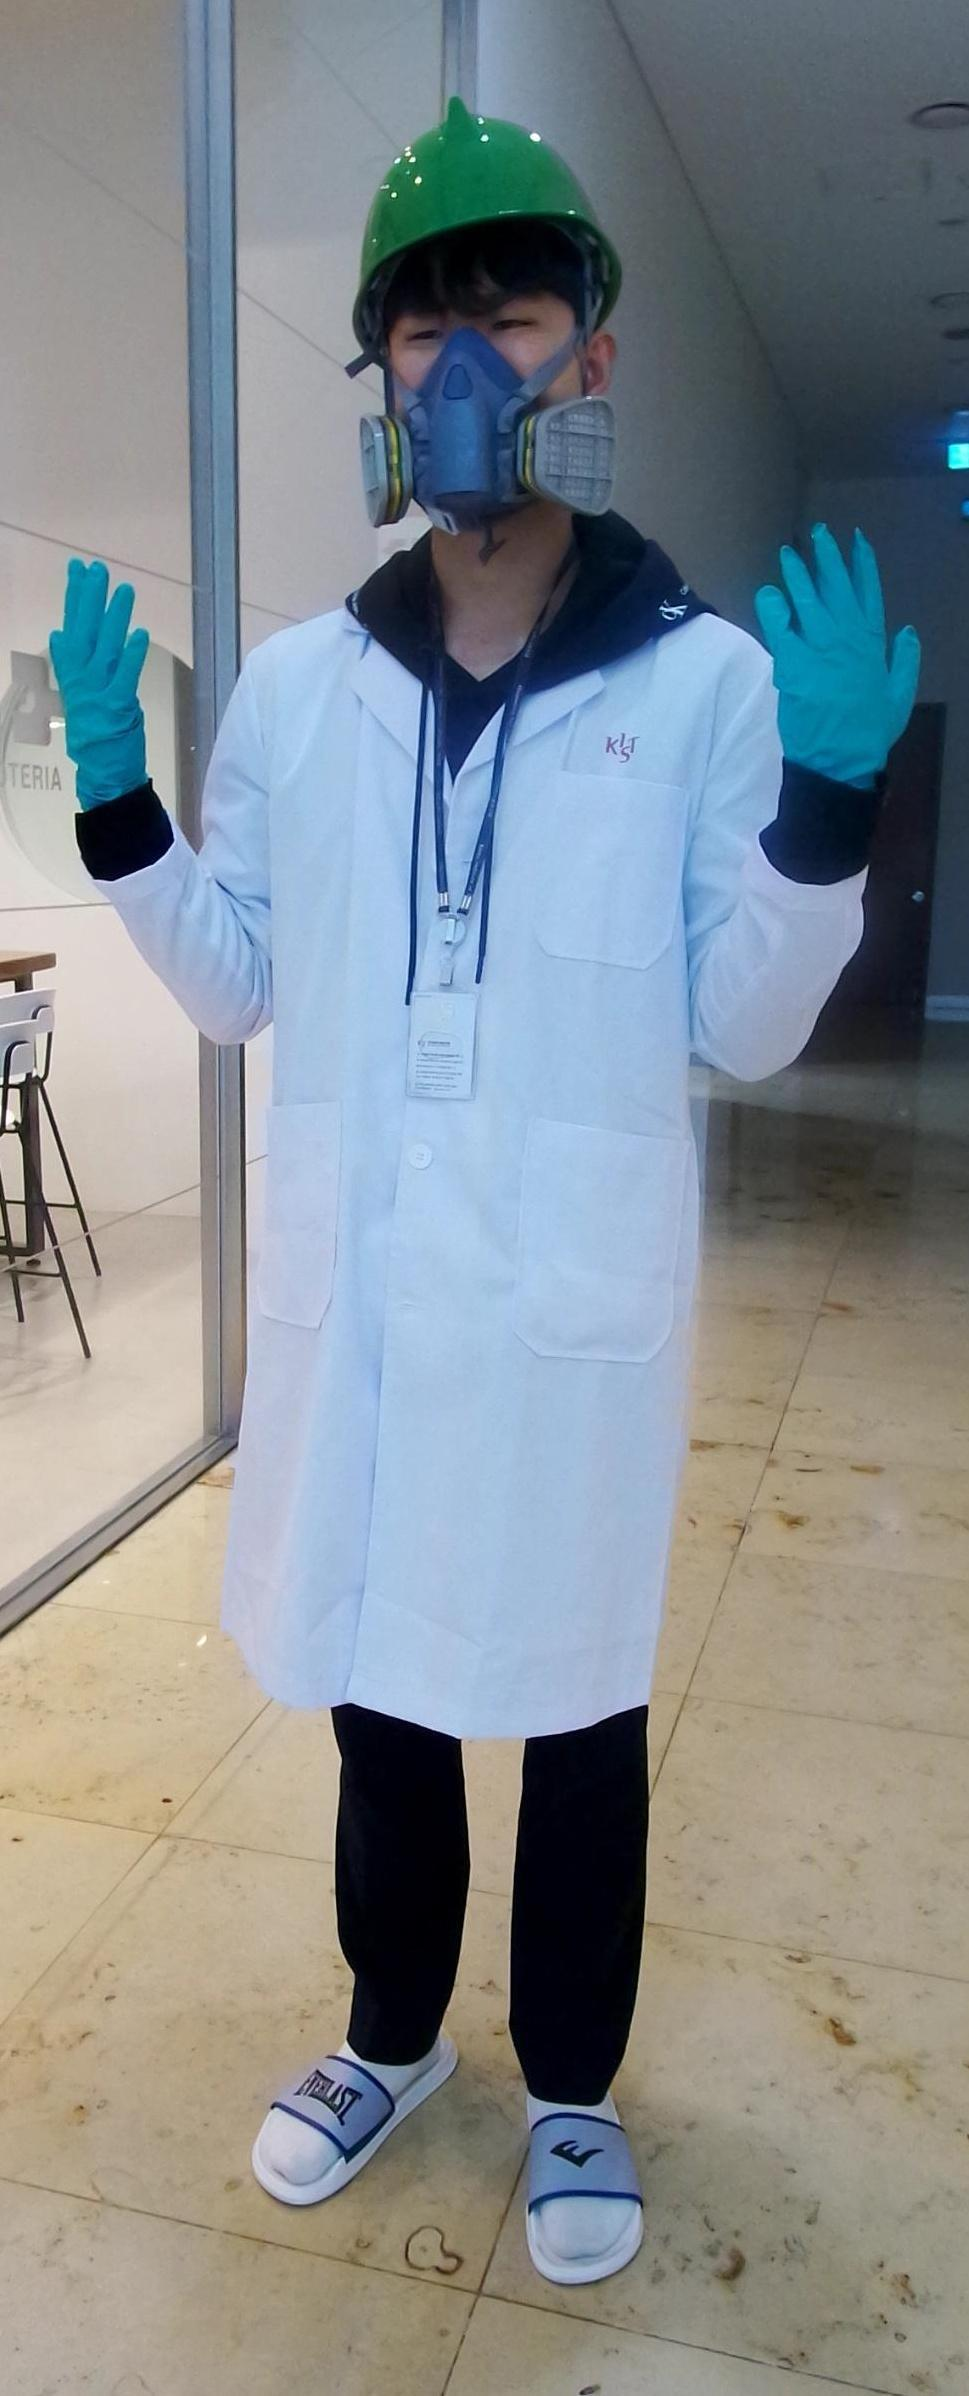lab_coat: (159, 646, 746, 1692)
